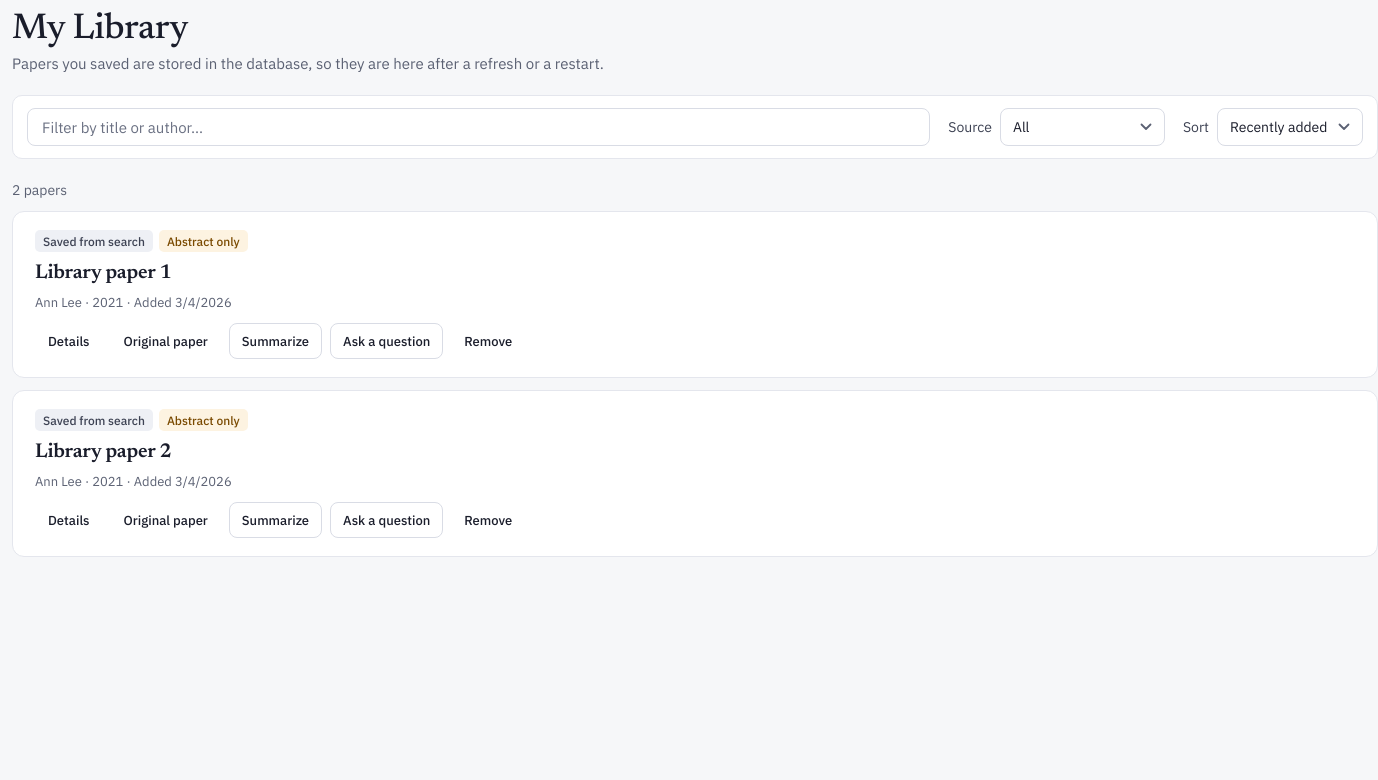
it: LibraryPage › removes a confirmed paper and refreshes the list
Expected: the link "Library paper 1" is shown, [35, 263, 172, 283]
Click the 1st button "Remove" at (488, 341), box [451, 323, 525, 359]
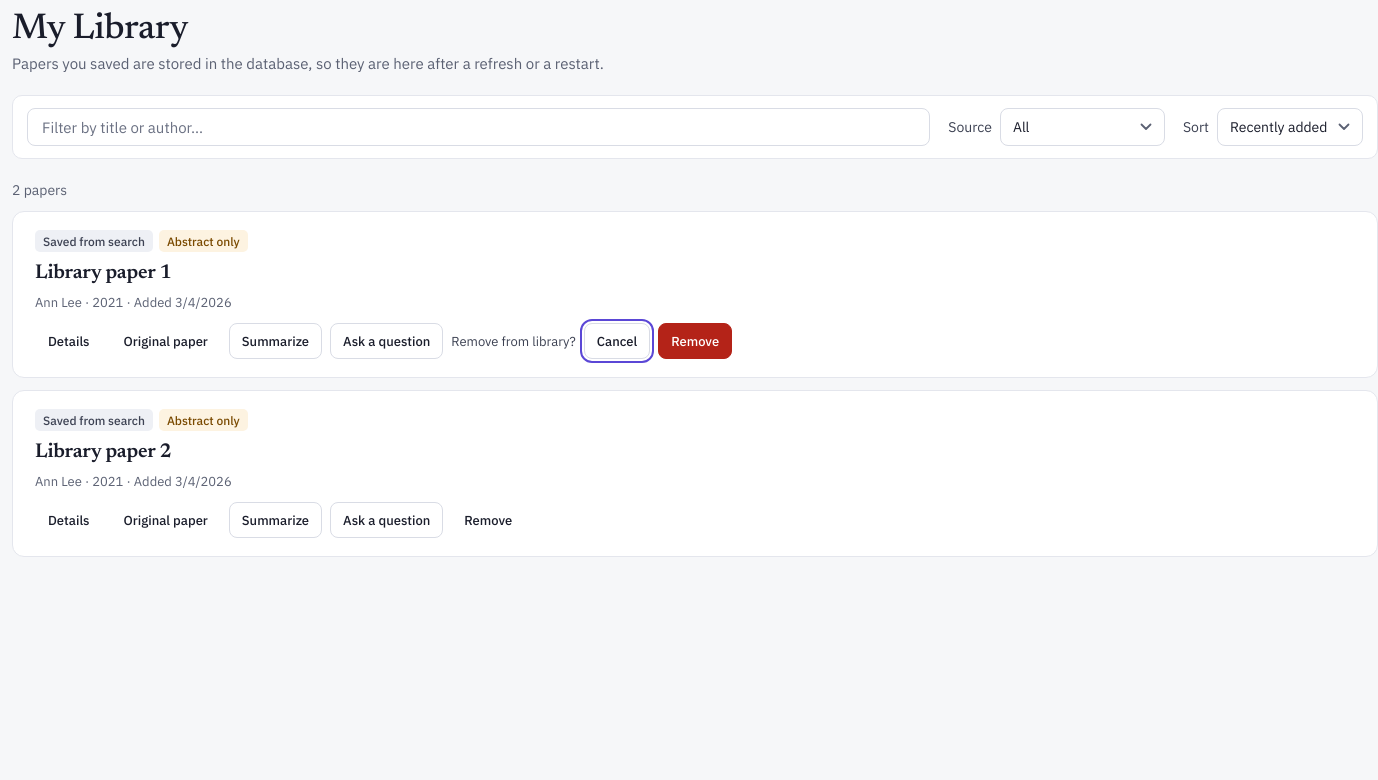
Click the button "Remove" in the row of "Remove from library?" at (695, 341), box [658, 323, 732, 359]
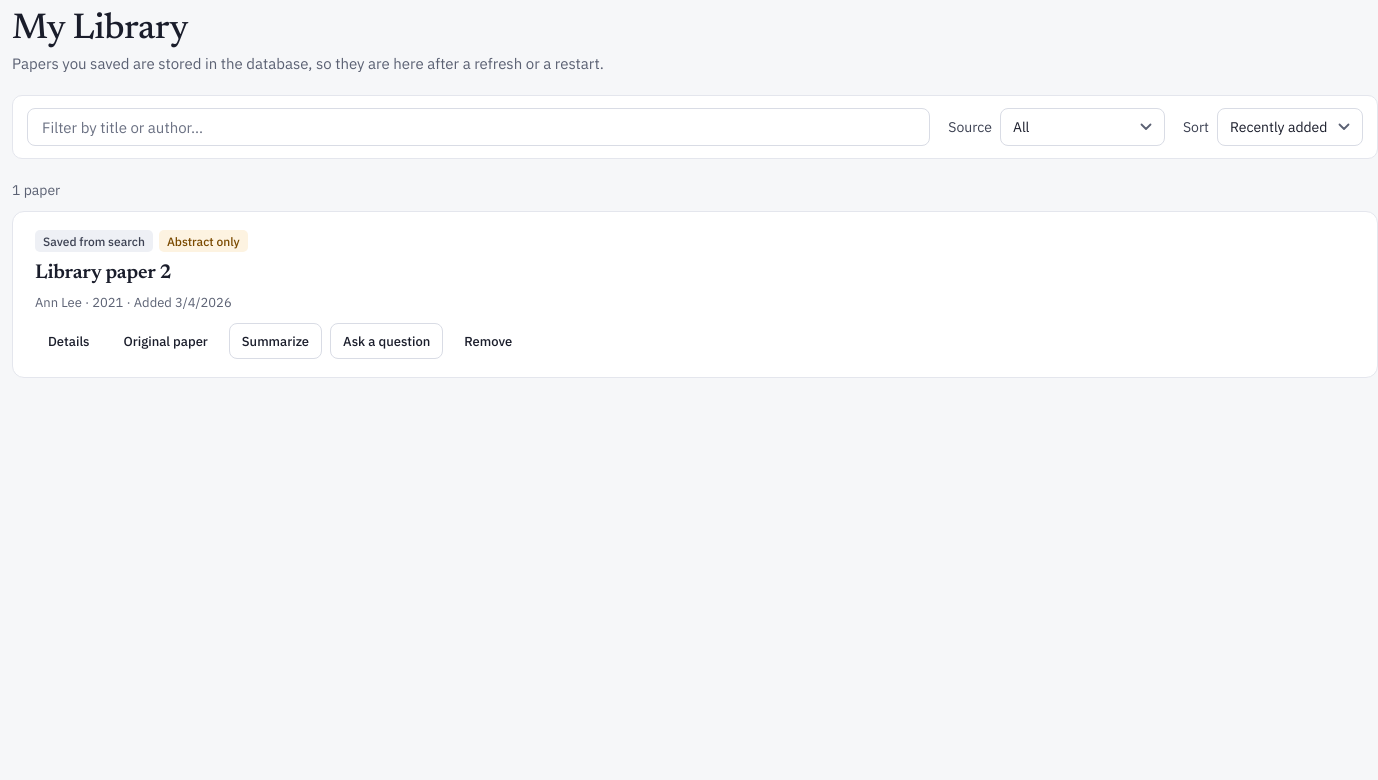
Expected: the link "Library paper 2" is shown, [35, 263, 172, 283]
Now the link "Library paper 1" is gone
